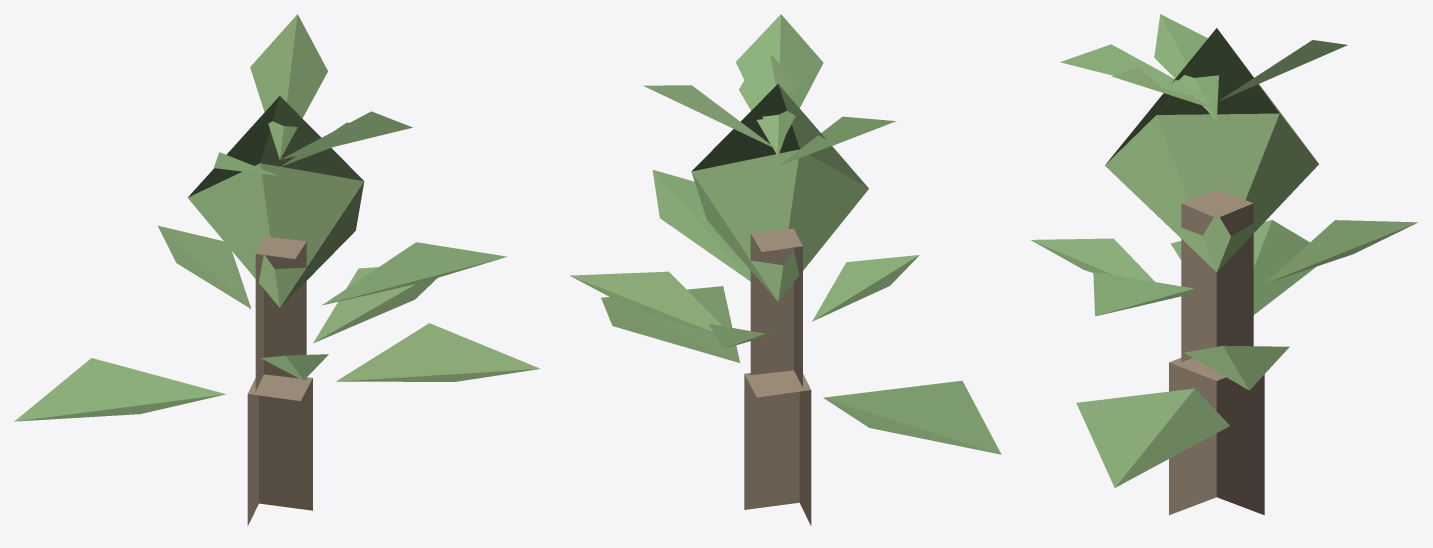
File: shui.pucao@seedling__spring.glb
The picture shows the model from 3 angles, left to right: view 1: azimuth 30°, elevation 25°; view 2: azimuth 150°, elevation 25°; view 3: azimuth 270°, elevation 25°; orthographic projection. The views are drawn at different scales.
Visible parts, largest first — view 1: shui.pucao@seedling__spring; view 2: shui.pucao@seedling__spring; view 3: shui.pucao@seedling__spring.
Boxes of the visible parts, x1,y1,x2,y2 form: shui.pucao@seedling__spring: [14, 14, 540, 525]; shui.pucao@seedling__spring: [570, 14, 1001, 525]; shui.pucao@seedling__spring: [1031, 14, 1417, 515].
Size of the model in its own units: 0.2145 by 0.1989 by 0.1366.
